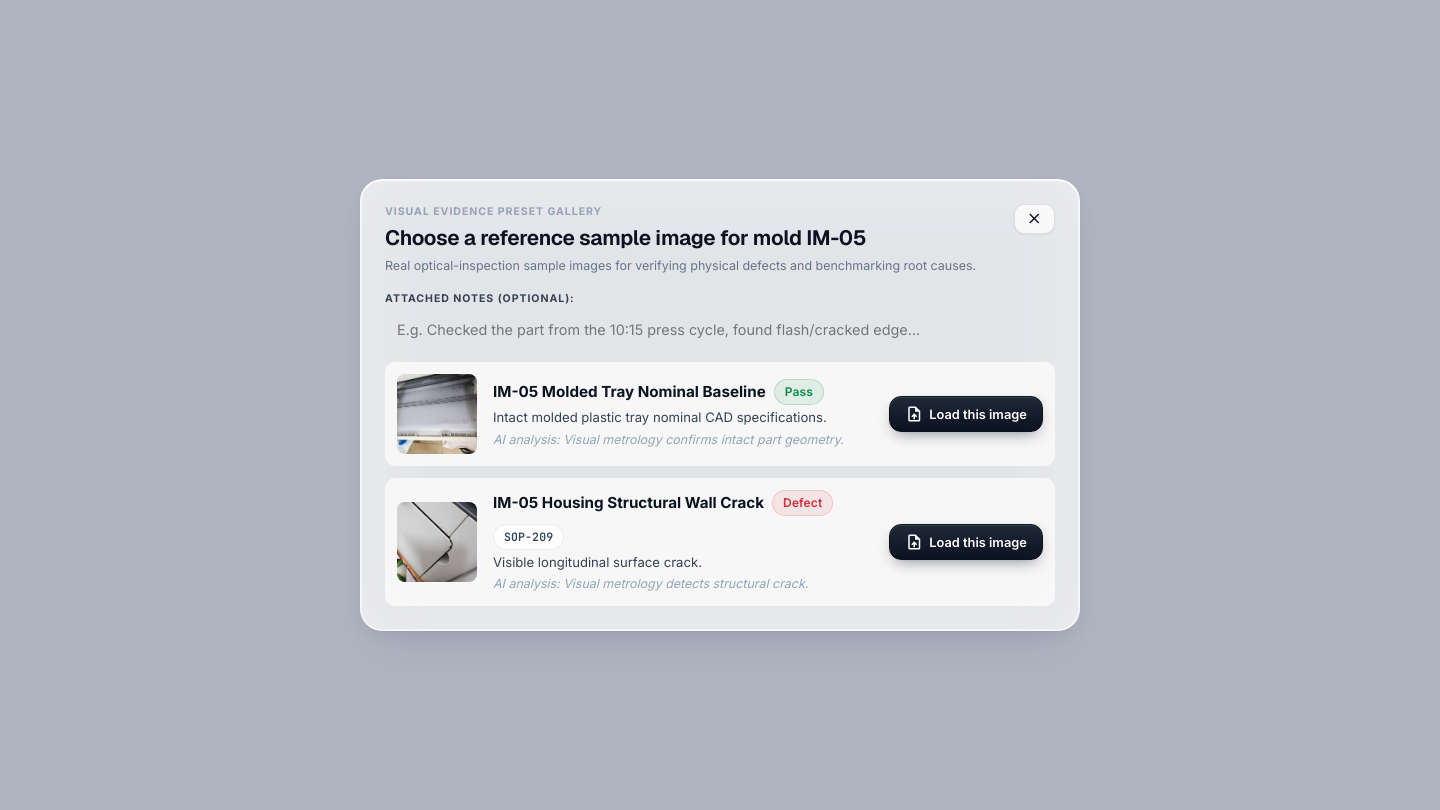
Scenario: PresetEvidenceModal › handles HTTP 404 not found error gracefully
The width and height of the screenshot is (1440, 810).
Click the button with test id "preset-select-btn-preset-im05-crack" at {"x": 966, "y": 542}, box [889,524,1043,560]
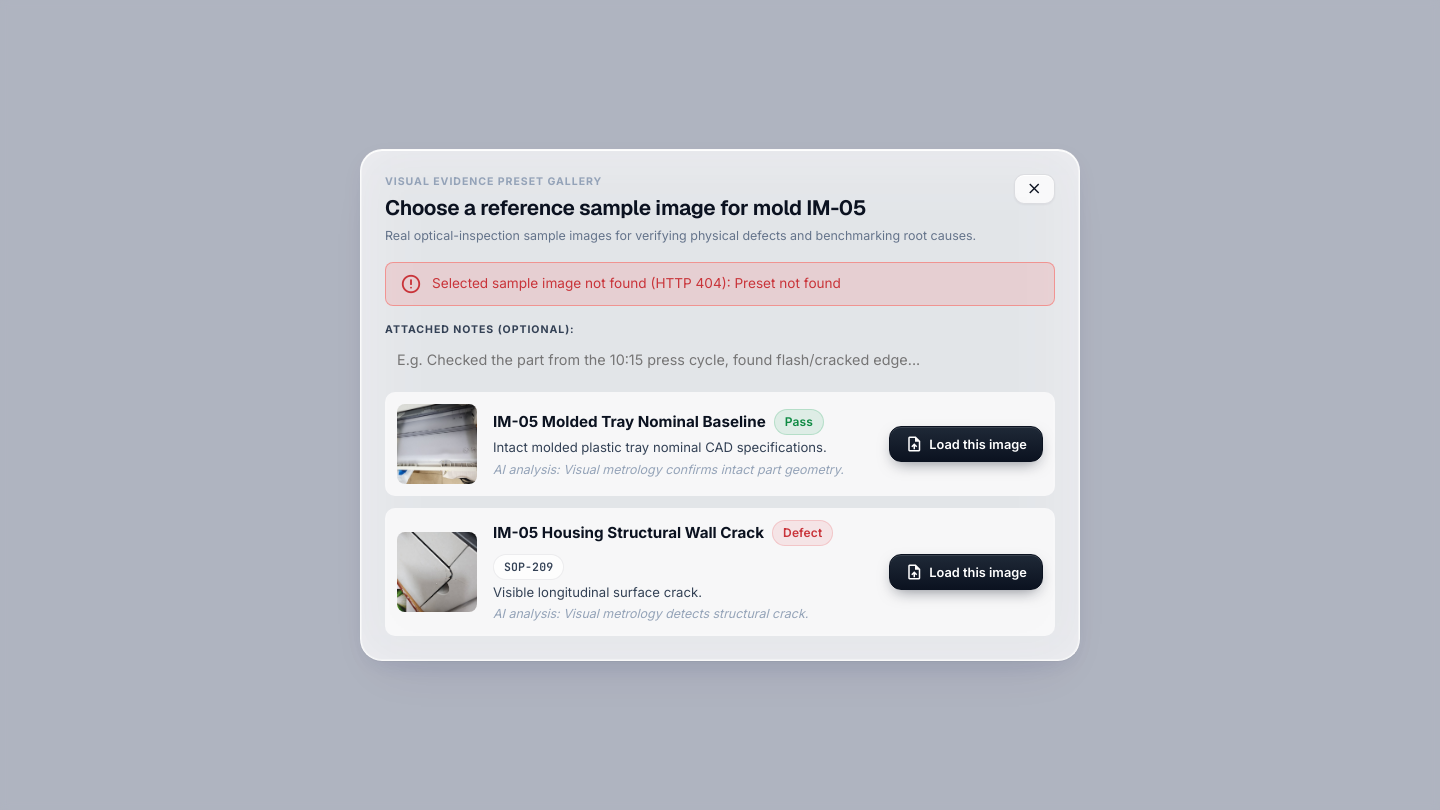
Now the element with test id "preset-action-error" is shown, box [385,262,1055,306]
Now the text "Selected sample image not found (HTTP 404): Preset not found" is shown, box [432,273,841,294]
